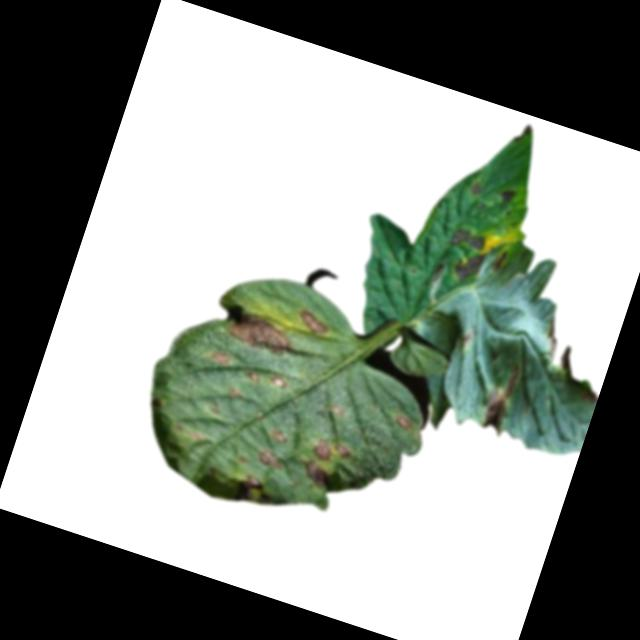Early_blight: (472, 351, 529, 436), (218, 309, 297, 361), (302, 429, 354, 468), (535, 310, 569, 366), (297, 455, 337, 492), (445, 222, 488, 254), (454, 249, 487, 287), (295, 308, 334, 339), (255, 444, 285, 473), (205, 345, 233, 366), (265, 369, 288, 393), (265, 423, 289, 446), (243, 366, 264, 387), (242, 470, 264, 490), (496, 184, 516, 204), (393, 412, 413, 431), (467, 176, 483, 196)
